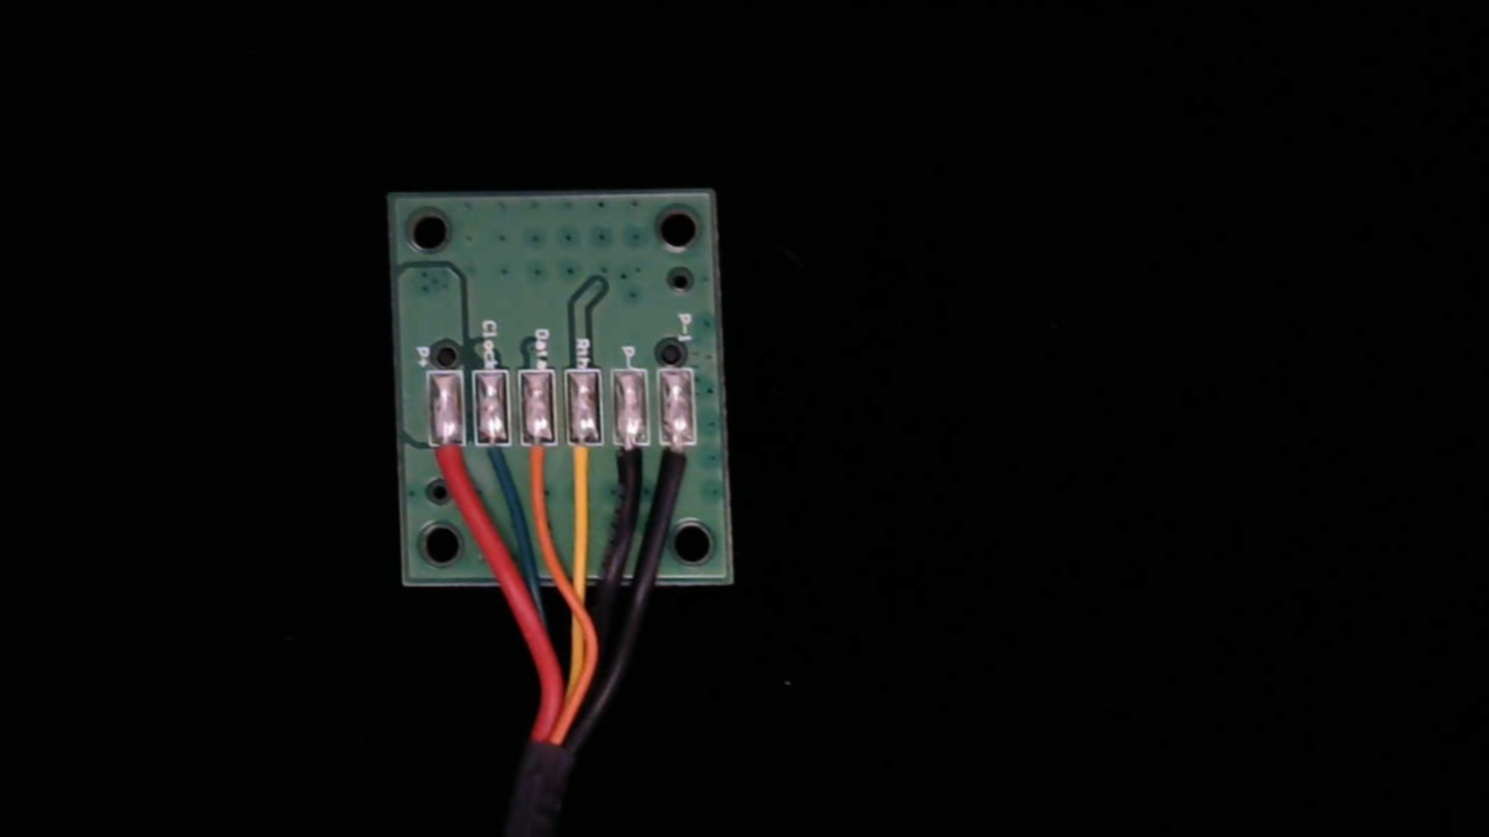Black: (608, 426, 652, 514)
Black1: (658, 425, 701, 505)
Green: (475, 422, 518, 505)
Orange: (522, 424, 562, 510)
Red: (426, 428, 470, 511)
Yellow: (566, 424, 610, 512)
